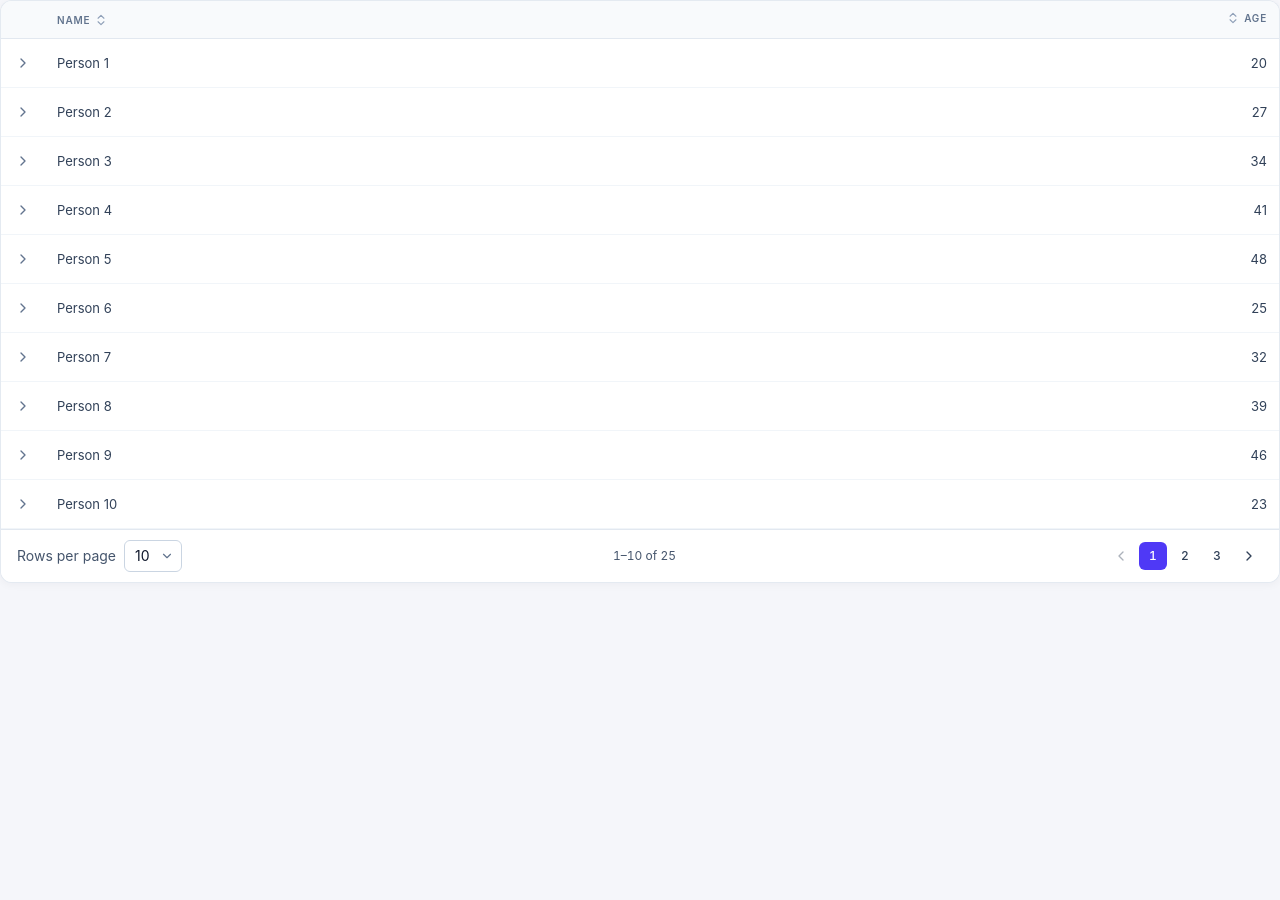
DataTable › stops a lazy load when the row is closed, without showing an error
Click the button named "Show details for Person 2" at (23, 112), box [9,98,37,126]
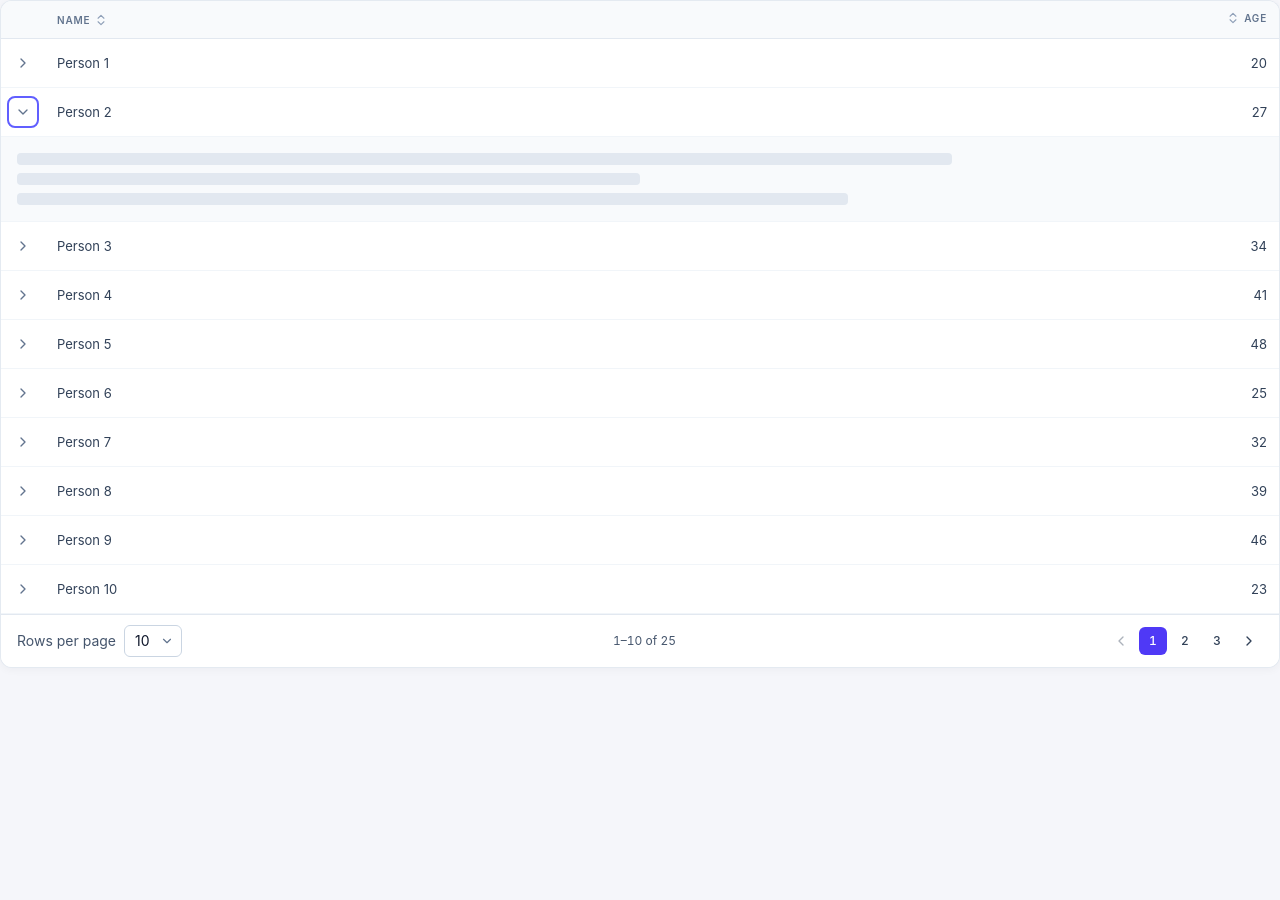
Click the button named "Hide details for Person 2" at (23, 112), box [9,98,37,126]
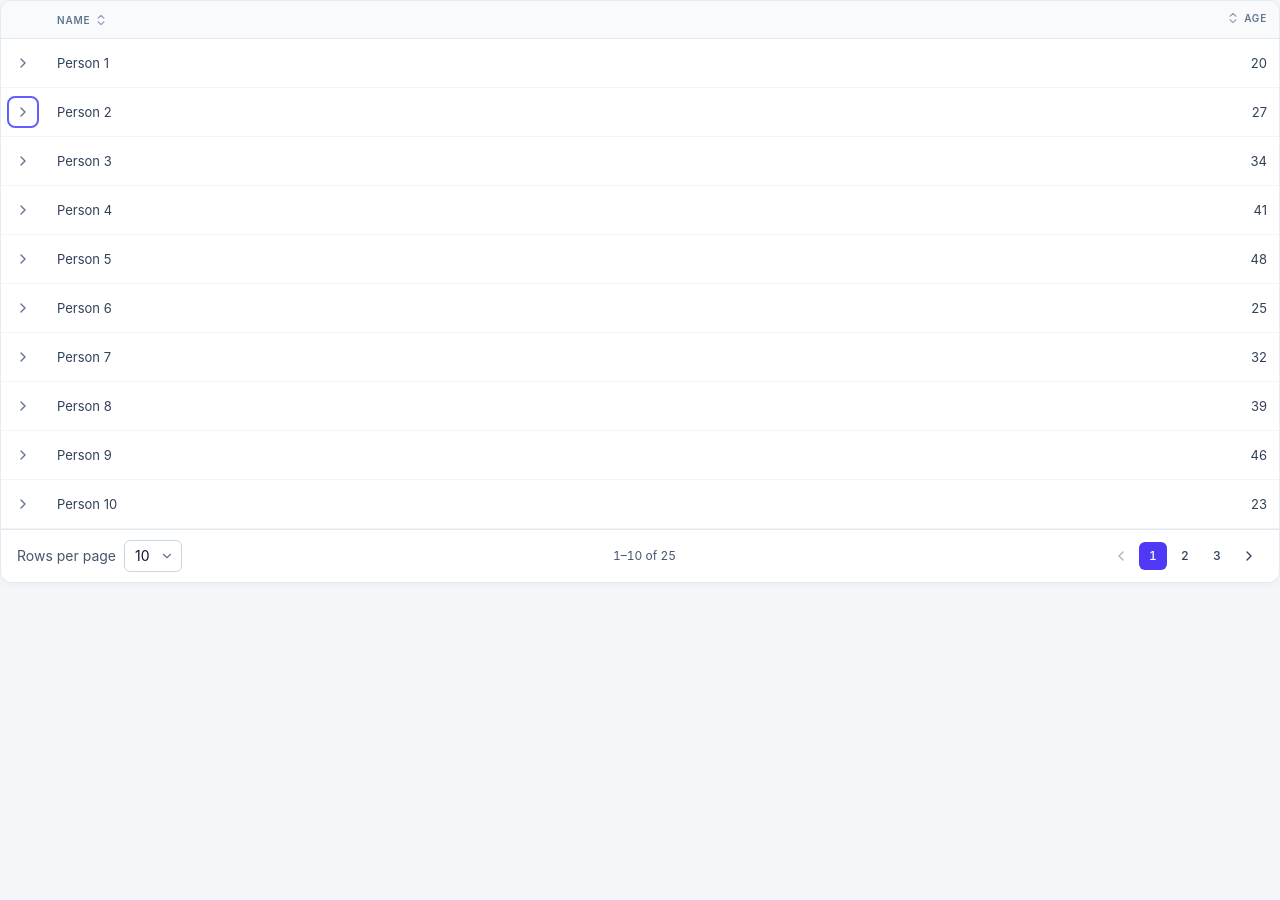
Result: the message is gone
